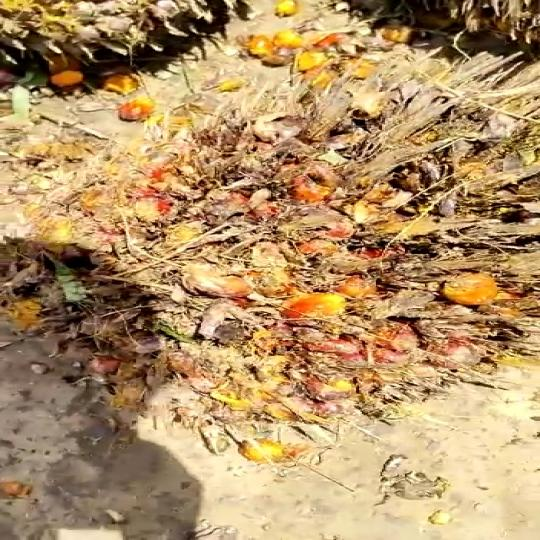terlalu masak: (38, 90, 540, 447)
